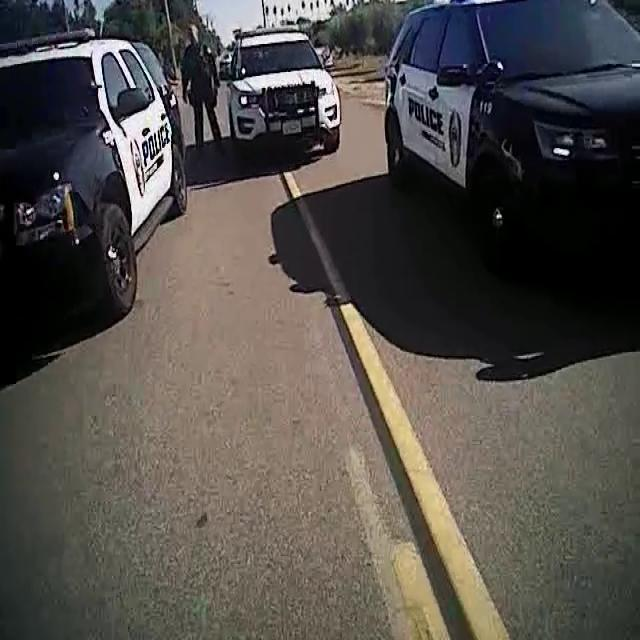gun: (184, 86, 196, 108)
